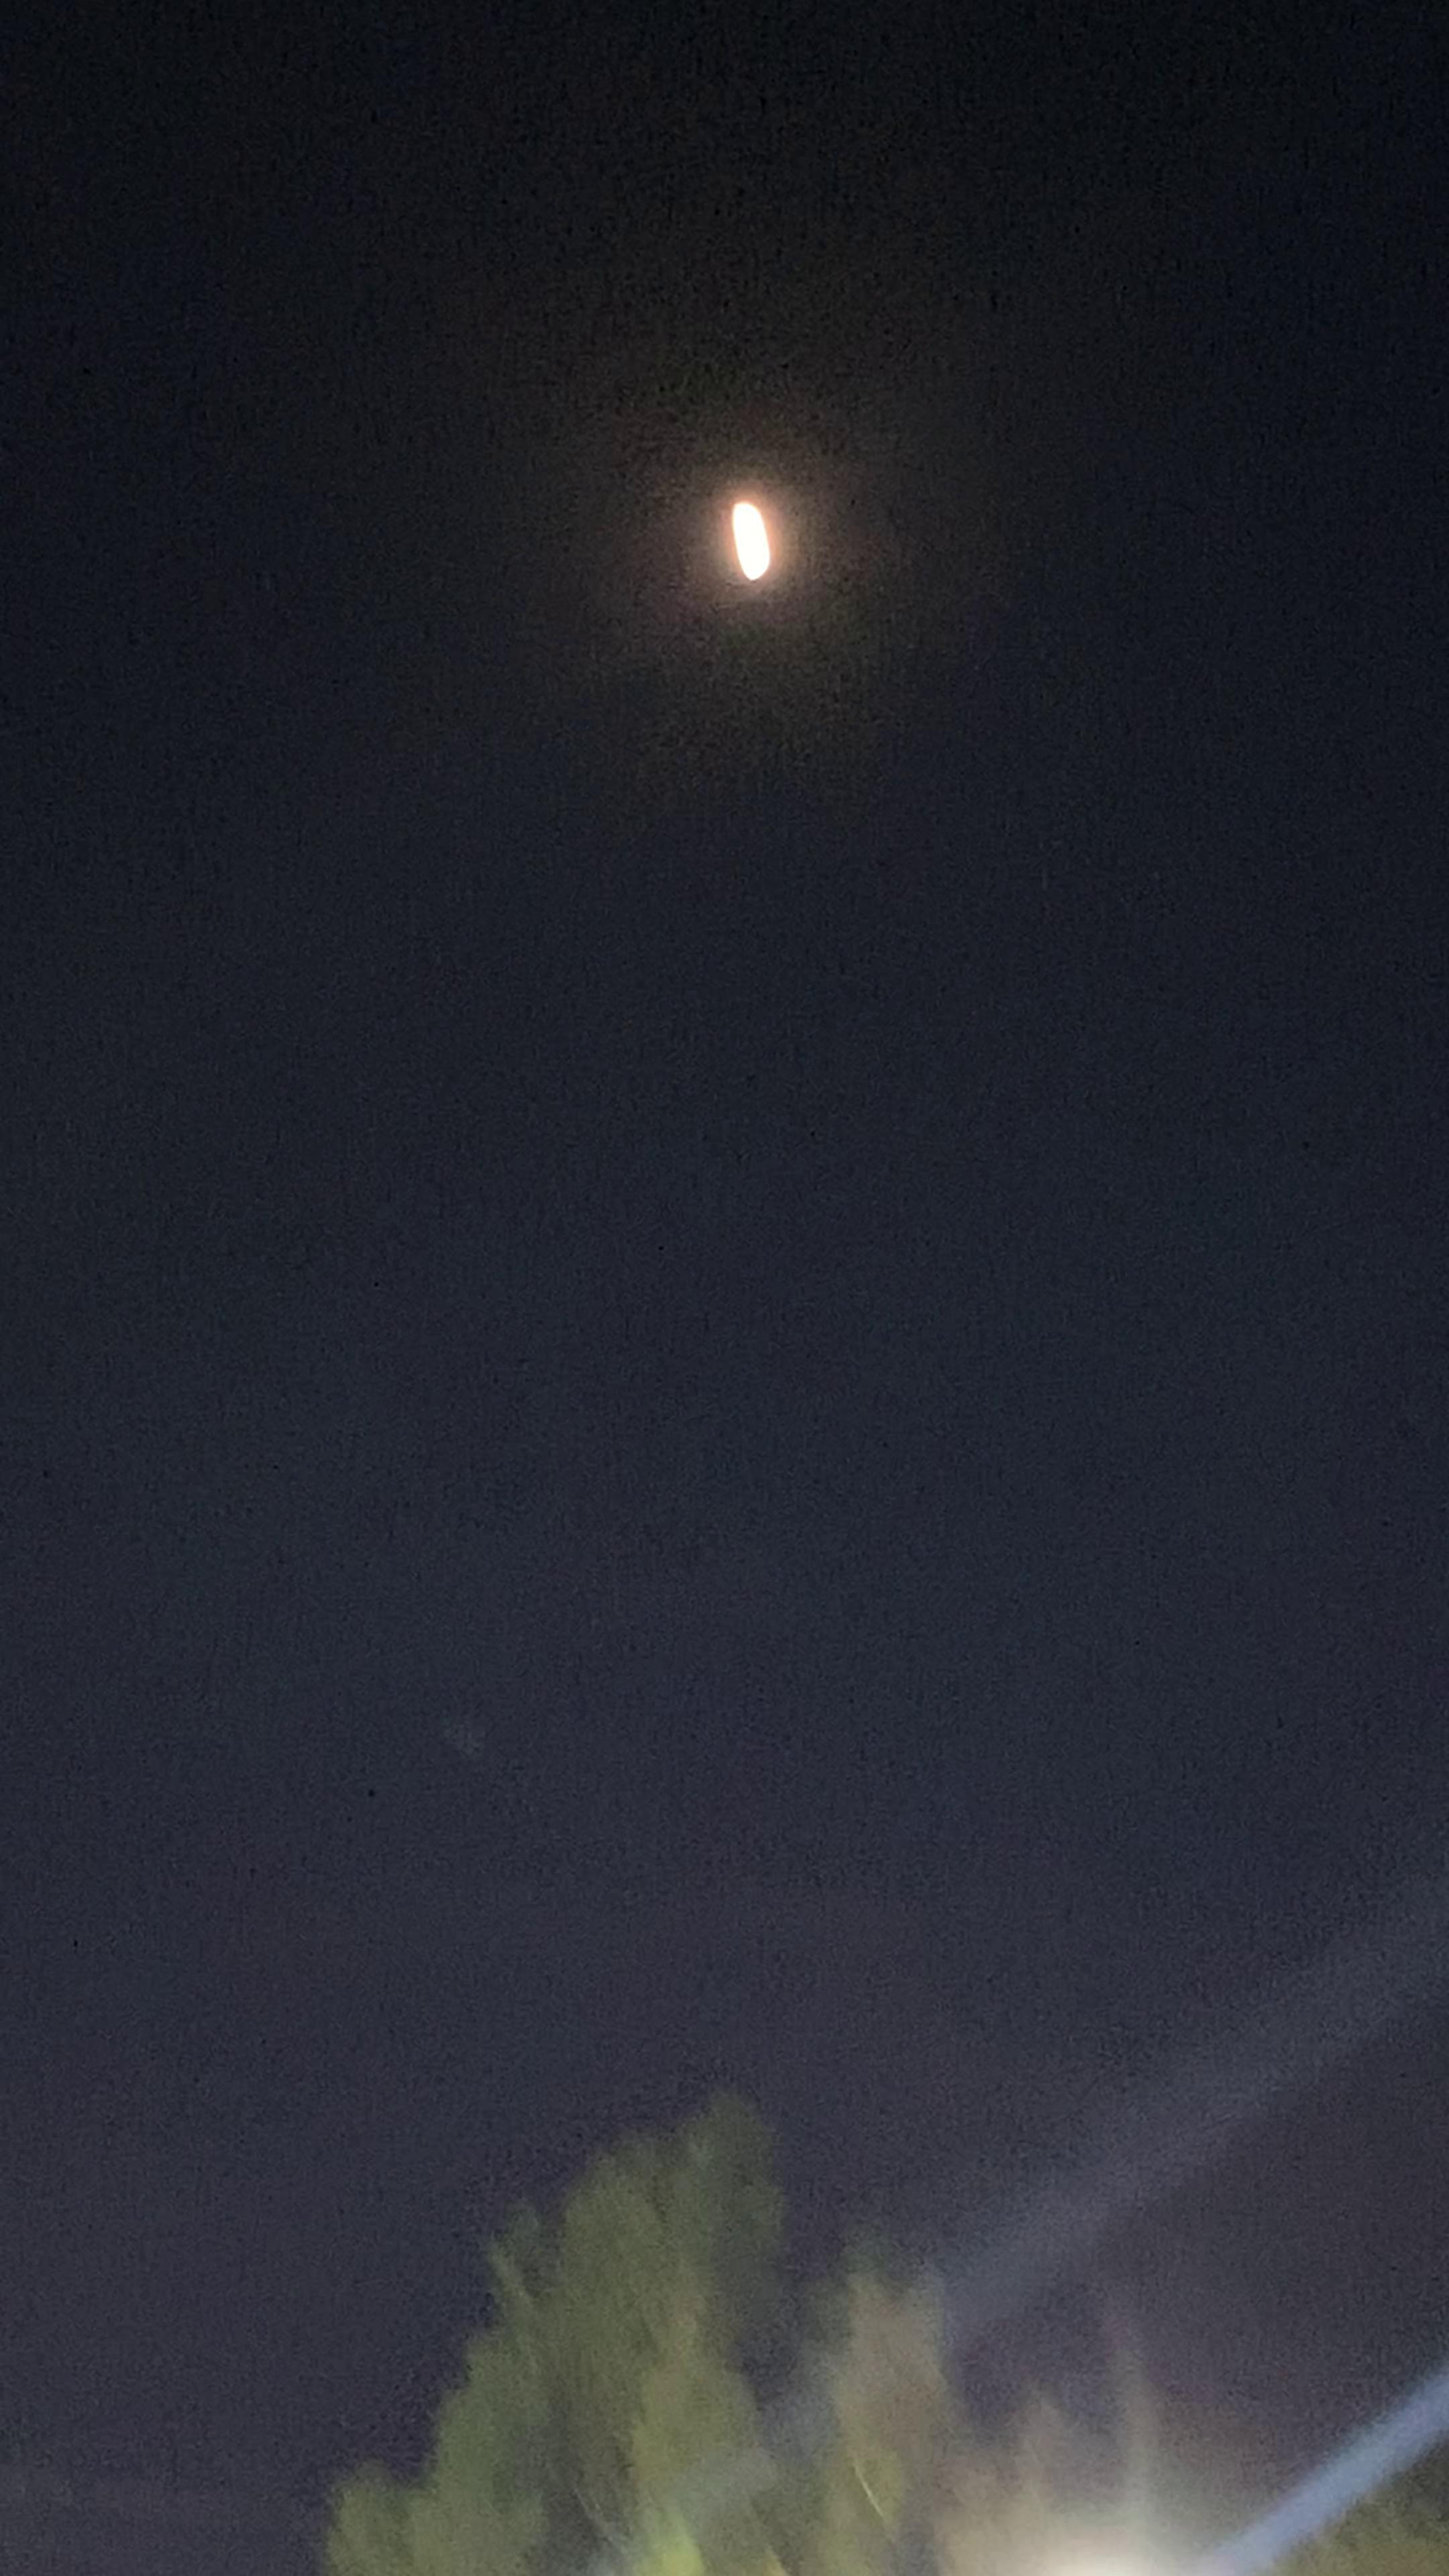moon: (686, 487, 847, 633)
